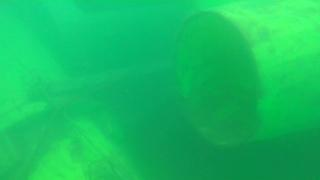pipe: (1, 1, 143, 179), (173, 1, 320, 146)
station: (25, 1, 199, 119)
